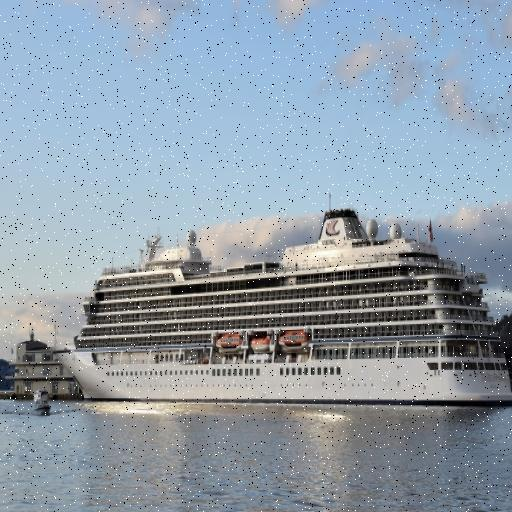cruises: (49, 205, 512, 415)
